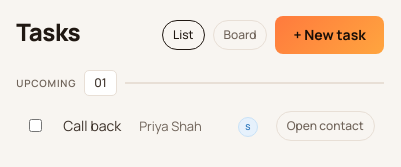
TasksPage complete/undo › optimistically strikes through a completed task and shows an inline Undo
The width and height of the screenshot is (401, 167).
Check: the text "Call back" is shown, box left=54, top=102, right=130, bottom=150
Click the checkbox named "Complete Call back".
click(36, 125)  # box left=29, top=118, right=42, bottom=132
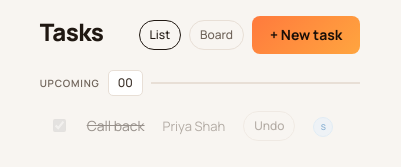
Check: the text "Call back" is shown, box left=78, top=102, right=154, bottom=150
Check: the button "Undo" is shown, box left=243, top=111, right=295, bottom=141
